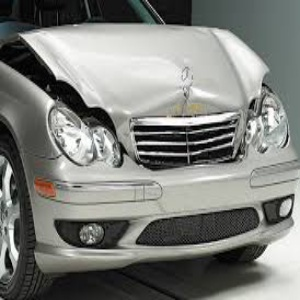bonnet: (25, 27, 274, 94)
